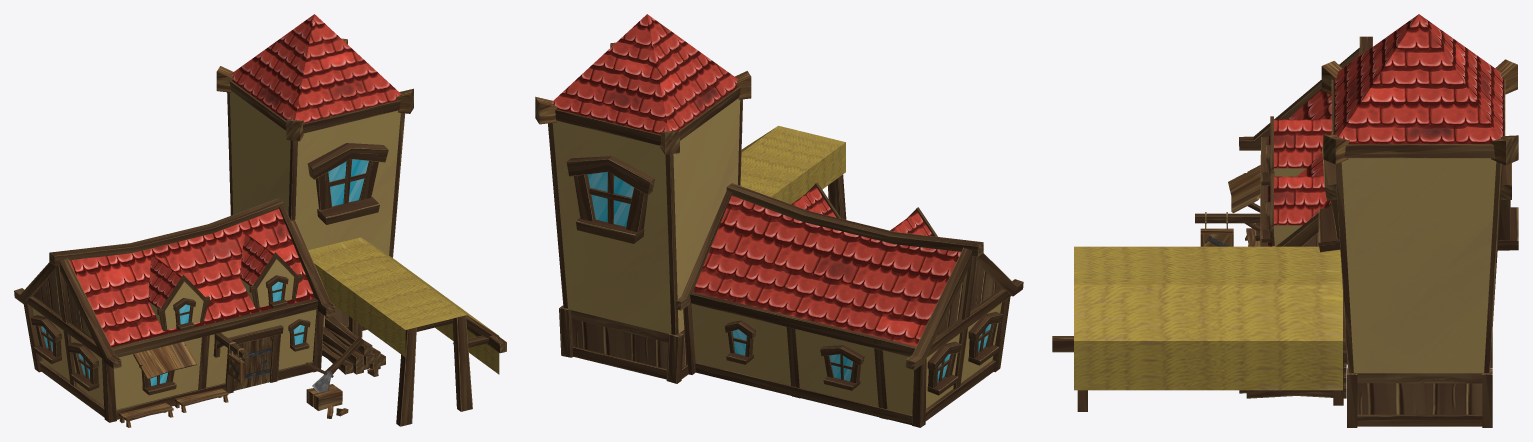
File: Carpentry.FBX
3 views of the same model, side by side, from view 1: azimuth 30°, elevation 25°; view 2: azimuth 150°, elevation 25°; view 3: azimuth 270°, elevation 25° (orthographic). The views are drawn at different scales.
Parts seen in each view (by area): view 1: Carpentry; view 2: Carpentry; view 3: Carpentry.
Part boxes in pixels (x1,y1,x2,y2): Carpentry: [14, 14, 506, 427]; Carpentry: [535, 14, 1023, 427]; Carpentry: [1052, 14, 1518, 427].
Bounding box in the file's own units: 126 × 104 × 114.
